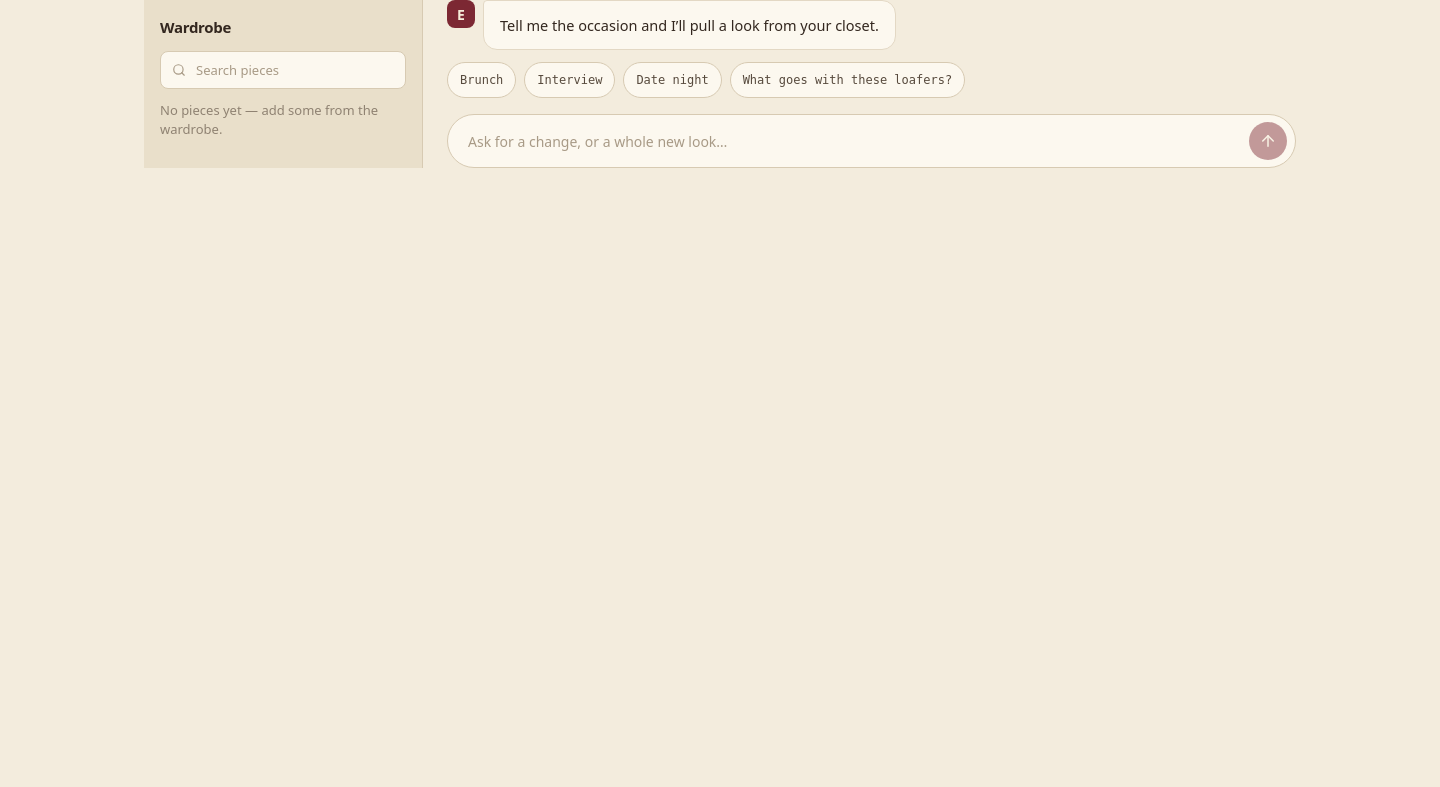
Test: Stylist route › threads across two re-picks: the second carries both prior picks
The width and height of the screenshot is (1440, 787).
Type "streetwear today" into the field named "message the stylist" at (852, 142), box [466, 131, 1239, 152]
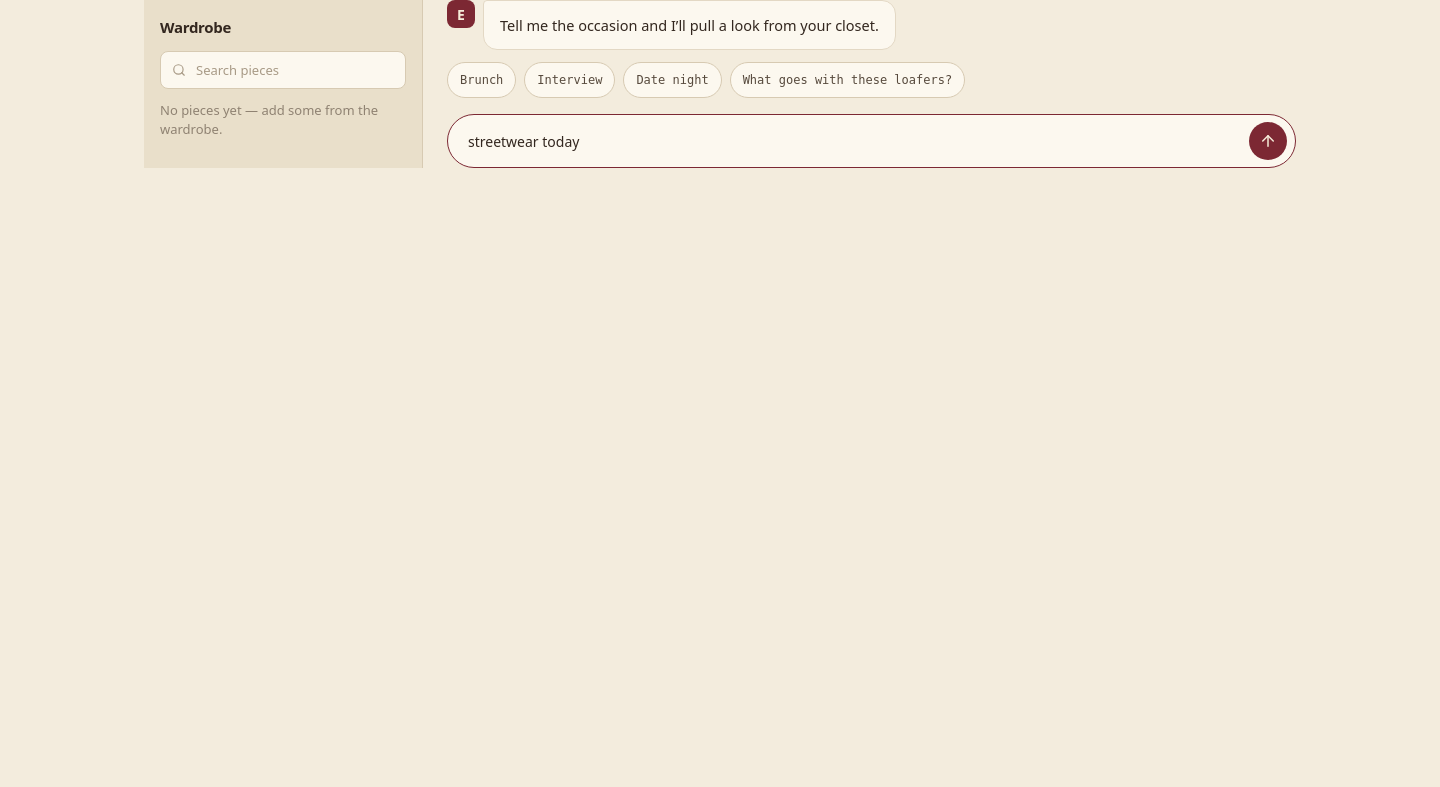
Click the button named "send" at (1268, 142), box [1249, 122, 1287, 160]
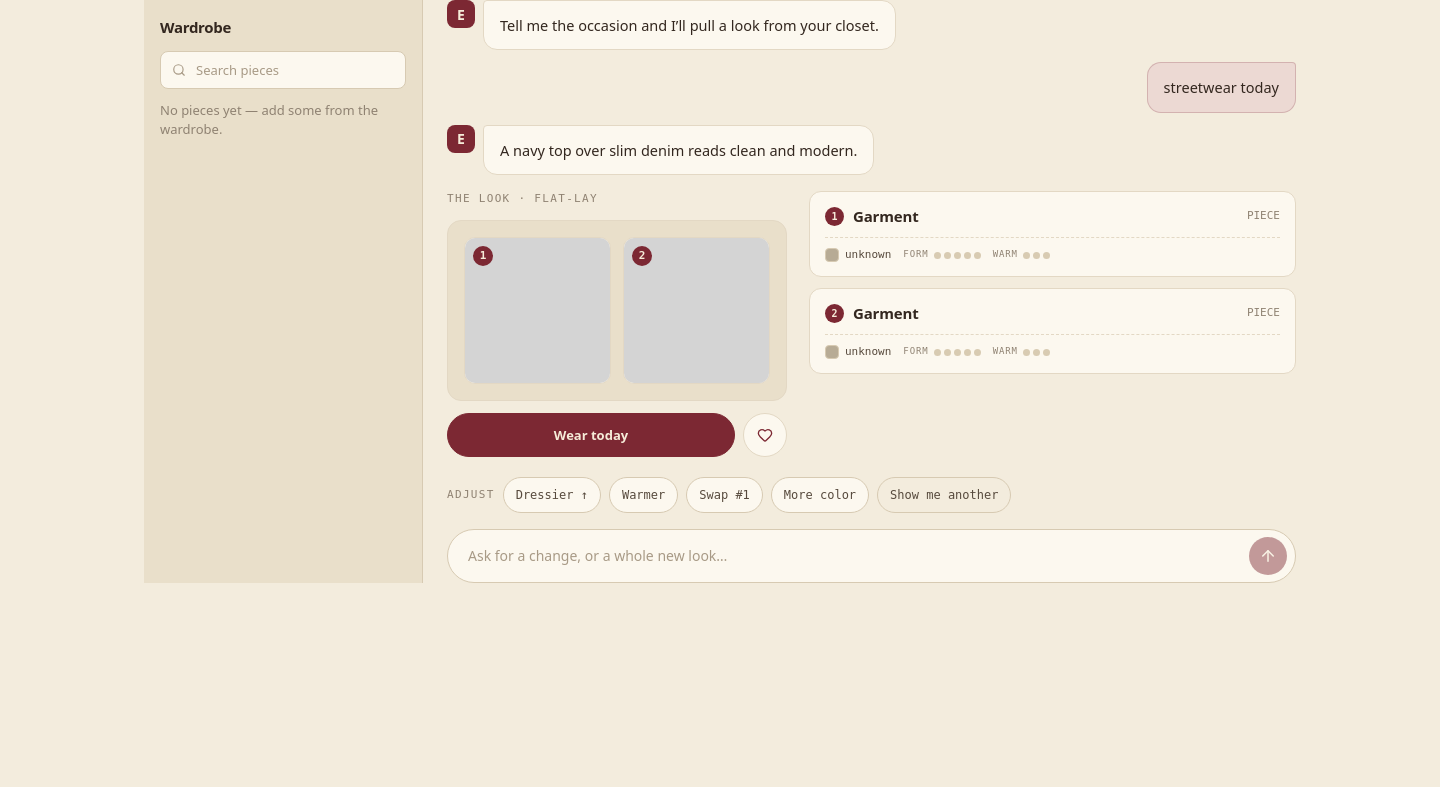
Expected: the text "A navy top over slim denim reads clean and modern." is shown, [483, 125, 874, 175]
Click the button "Show me another" at (944, 495), box [877, 477, 1012, 513]
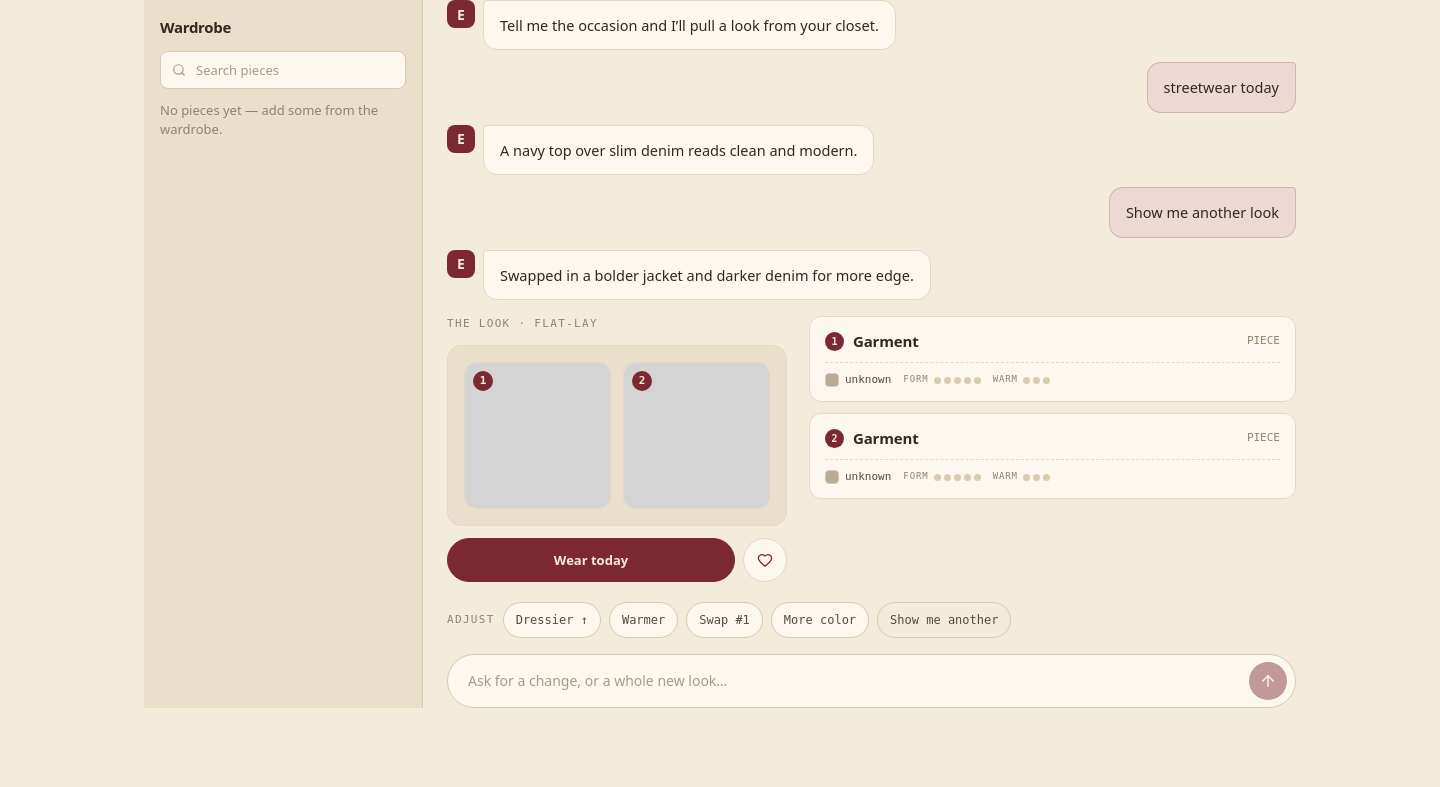
Expected: the text "Swapped in a bolder jacket and darker denim for more edge." is shown, [483, 250, 931, 300]
Type "more color" into the field named "message the stylist" at (852, 681), box [466, 670, 1239, 691]
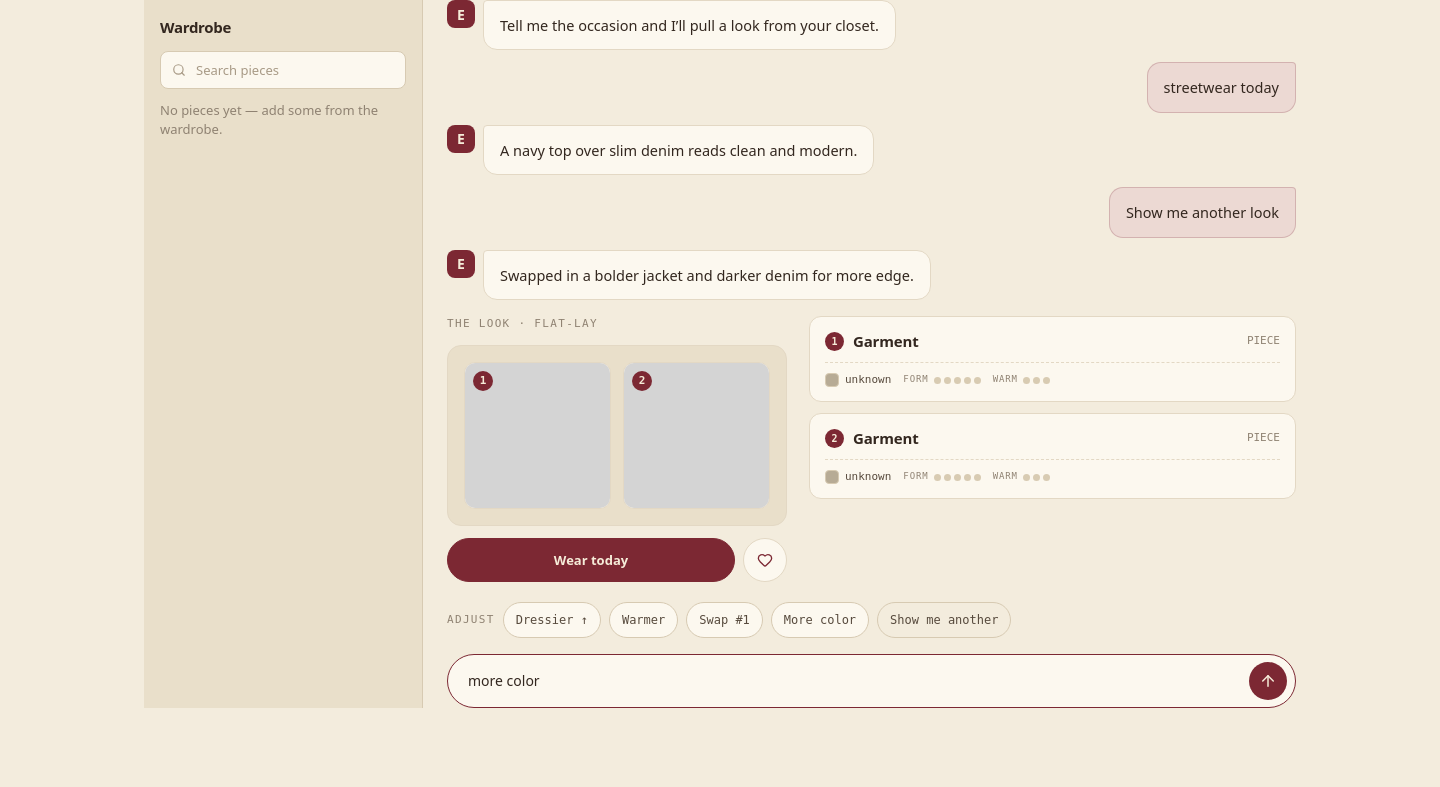
Click the button named "send" at (1268, 681), box [1249, 662, 1287, 700]
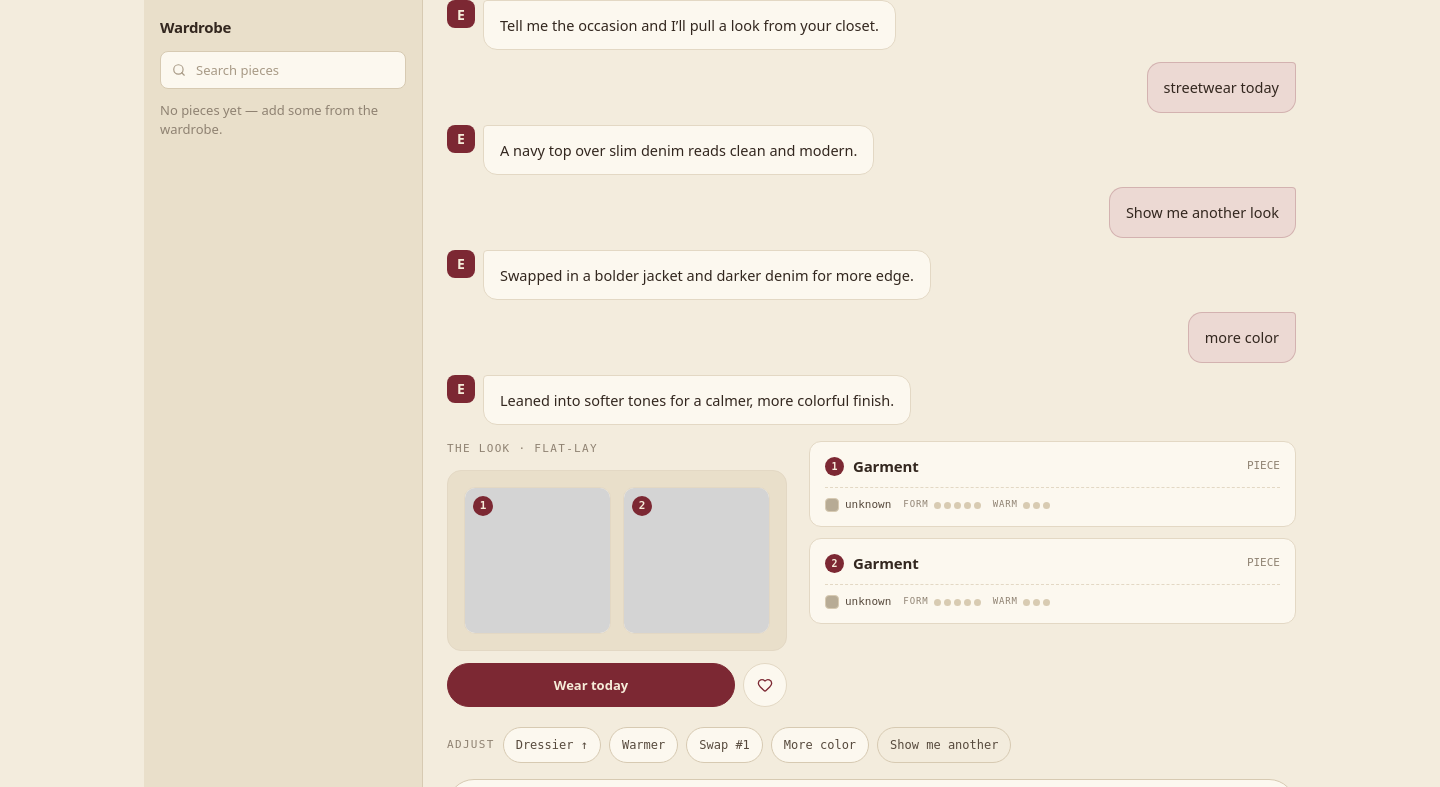
Expected: the text "Leaned into softer tones for a calmer, more colorful finish." is shown, [483, 375, 911, 425]
